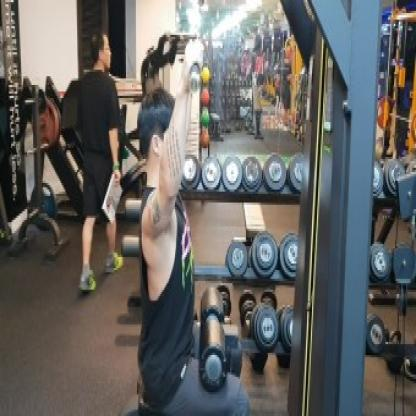Lat Pull Down: (96, 0, 416, 416)
